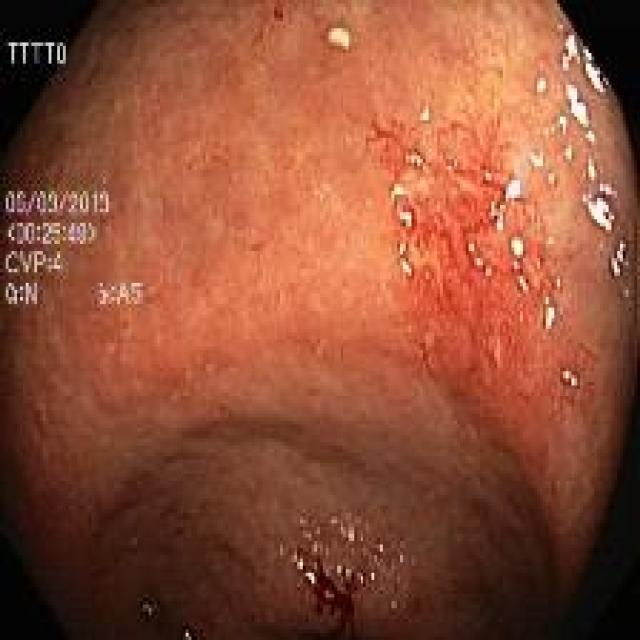ulcerative-colitis-grade-1: (370, 61, 623, 485)
